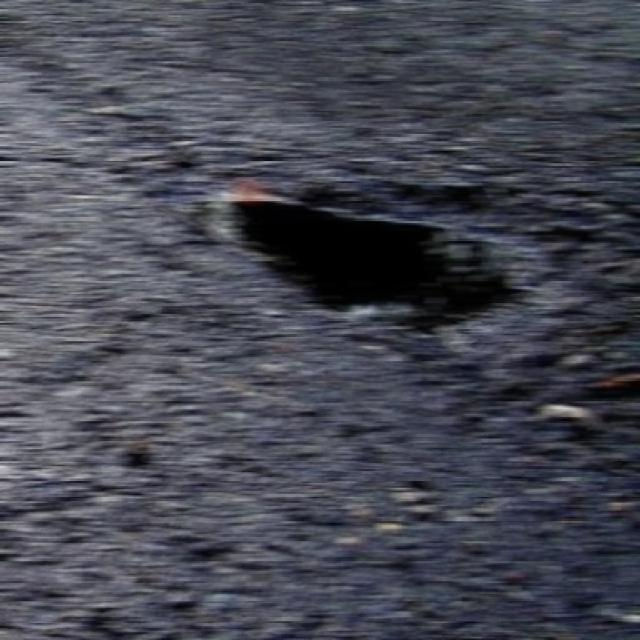Pothole: (179, 162, 534, 342)
